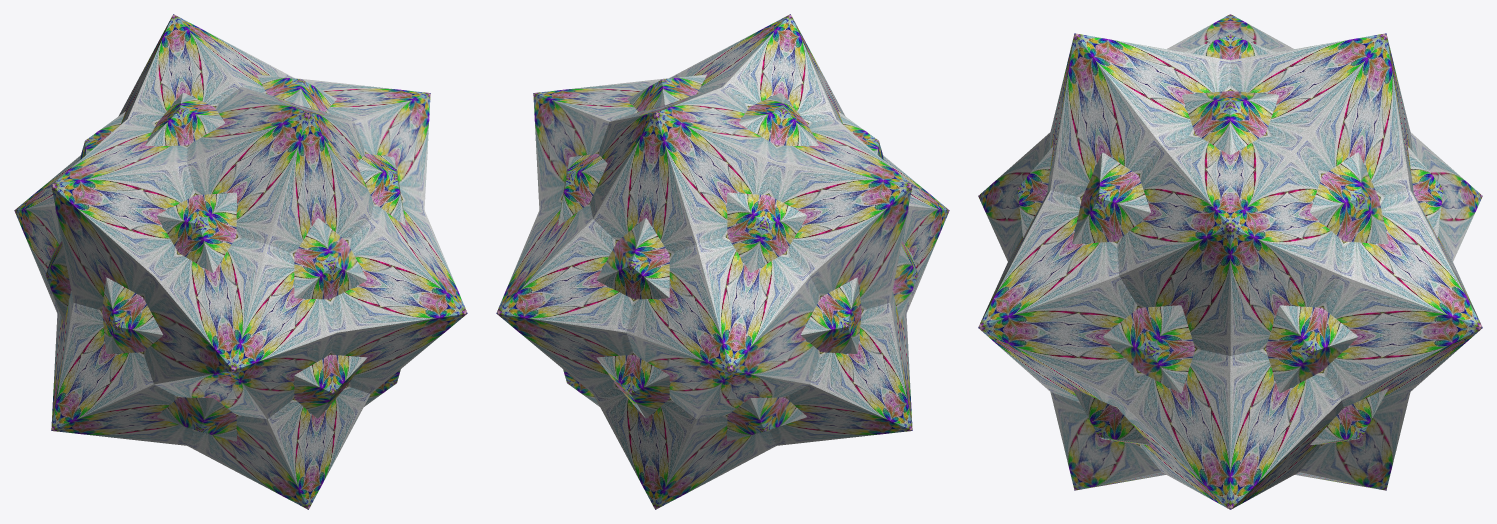
File: GreatDitrigonalDodecacronicHexecontahedron3.obj
3 renders of one model, left to right at view 1: azimuth 30°, elevation 25°; view 2: azimuth 150°, elevation 25°; view 3: azimuth 270°, elevation 25°, orthographic. The views are drawn at different scales.
Size of the model in its own units: 2.35 by 2.35 by 2.35.
1 material, 1 textured.
